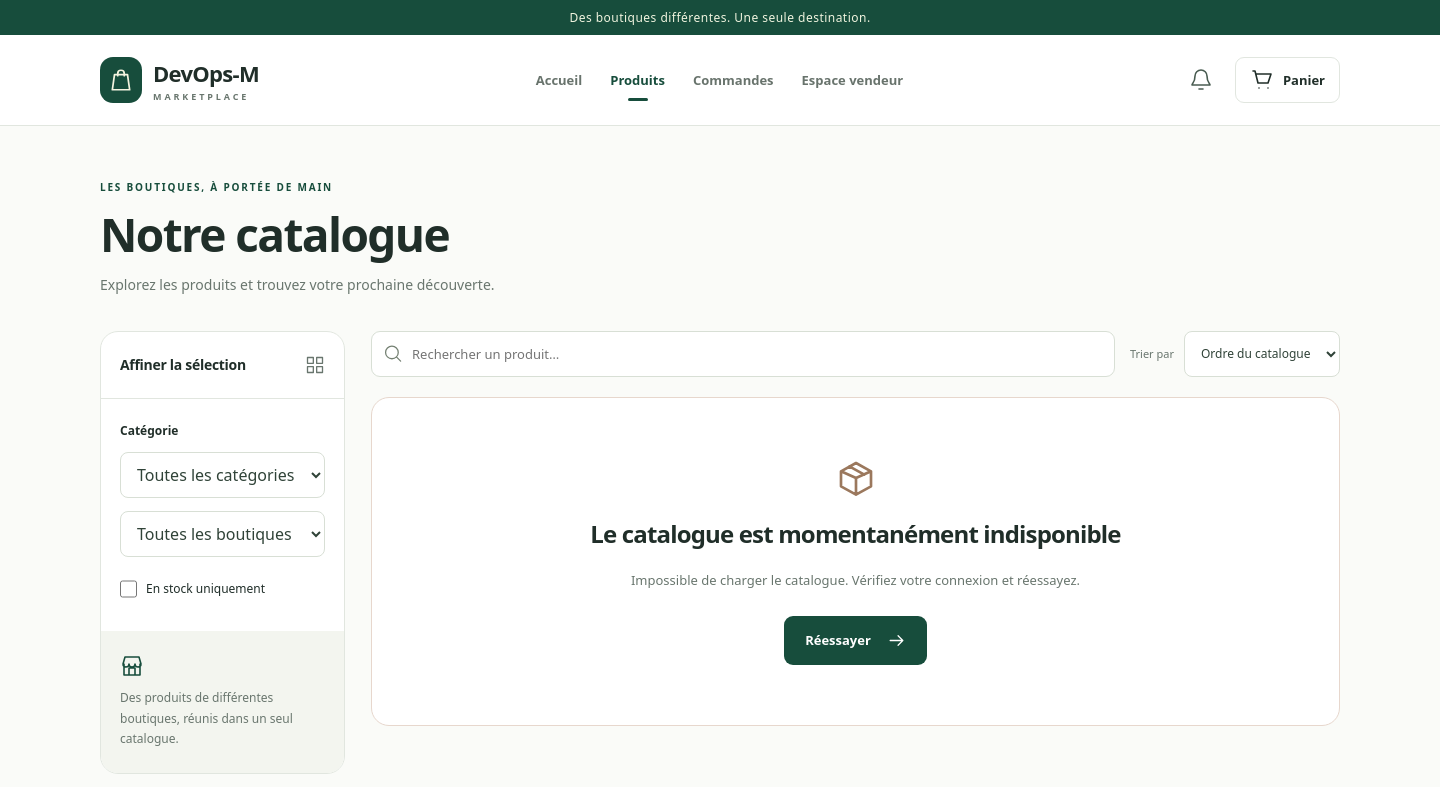
Scenario: catalogue: erreur API puis nouvelle tentative
The image size is (1440, 787).
Expected: the message shows "Impossible de charger", [631,571,1080,589]
Click the button "Réessayer" at [855, 640], box [784,616,927,665]
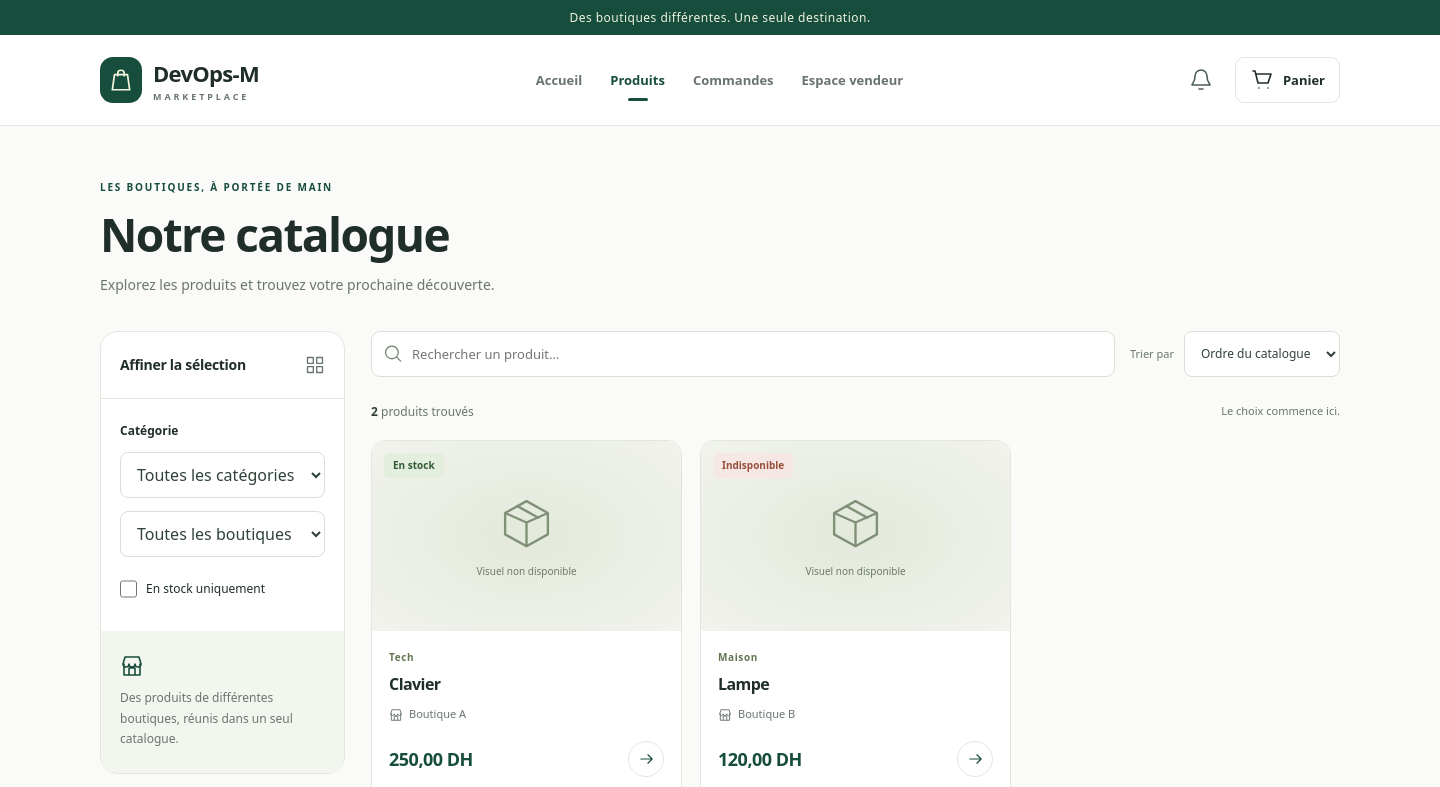
Expected: the heading "Clavier" is shown, [389,673,440,695]
